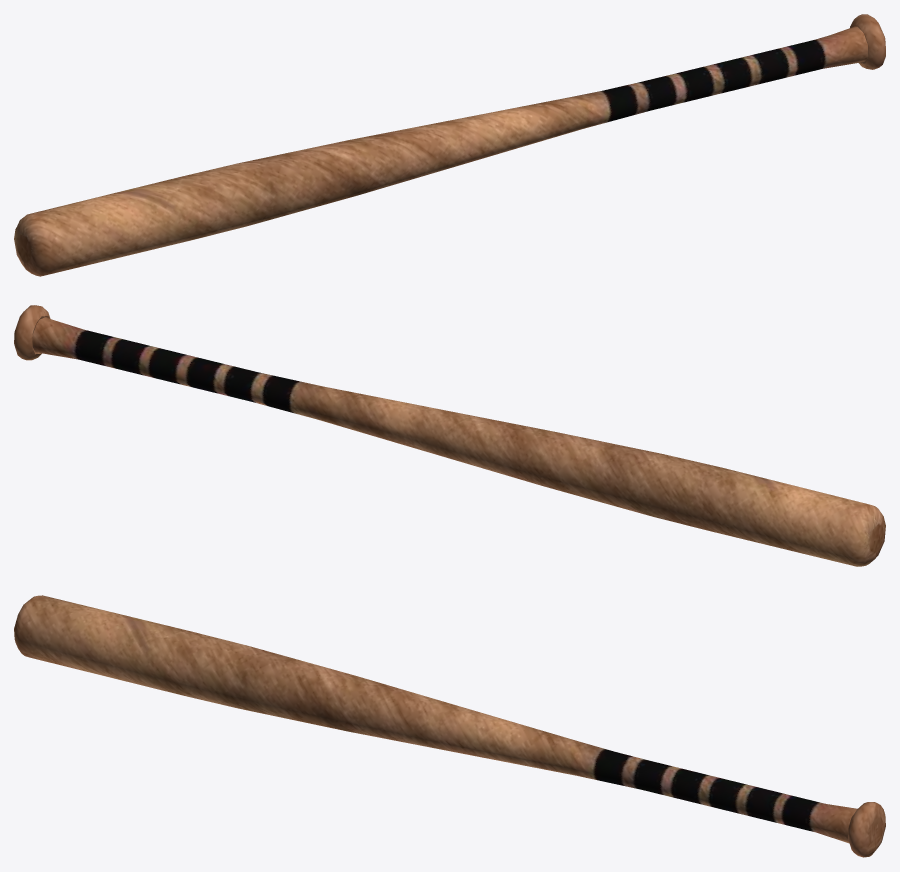
The model's file is bat.glb.
3 views of the same model, one above another, from view 1: azimuth 30°, elevation 25°; view 2: azimuth 150°, elevation 25°; view 3: azimuth 330°, elevation 25° (orthographic).
Parts seen in each view (by area): view 1: Cylinder; view 2: Cylinder; view 3: Cylinder.
Boxes of the visible parts, box(x1,y1,x2,y2) form: Cylinder: box(14, 14, 885, 276); Cylinder: box(14, 305, 885, 566); Cylinder: box(14, 595, 885, 857).
Bounding box in the file's own units: 1.03 × 0.068 × 0.0675.
1 material, 1 textured.
